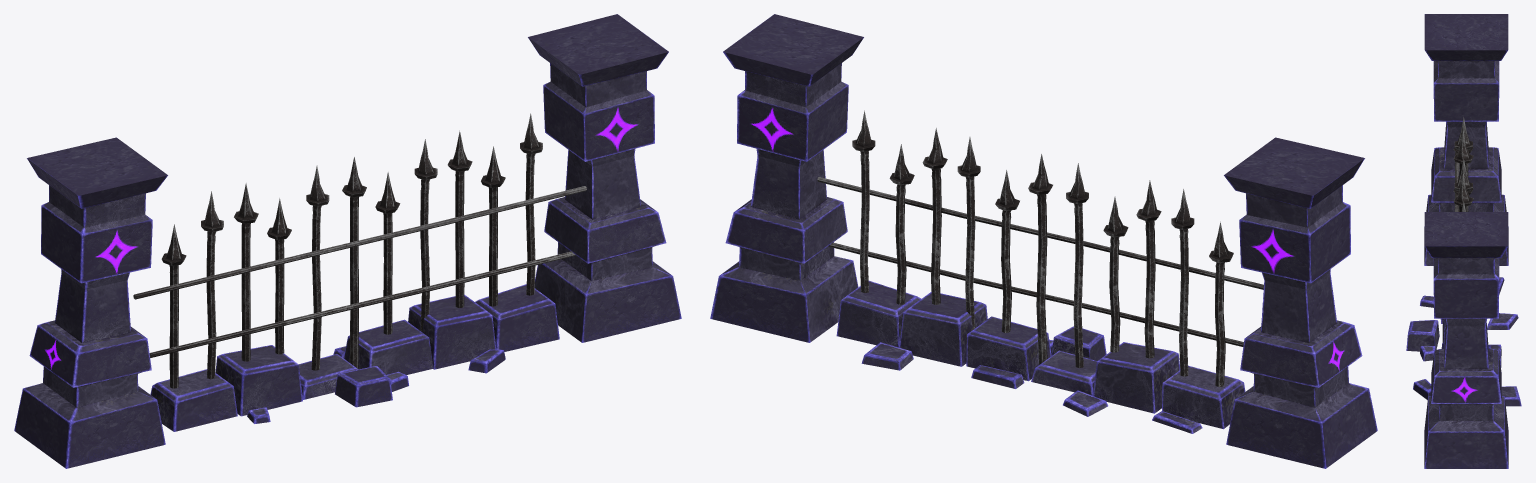
Rendered from Fench1.fbx.
The picture shows the model from 3 angles, left to right: view 1: azimuth 30°, elevation 25°; view 2: azimuth 150°, elevation 25°; view 3: azimuth 270°, elevation 25°; orthographic projection. The views are drawn at different scales.
Visible parts, largest first — view 1: Fench1, FenchP1, FenchP2; view 2: Fench1, FenchP1, FenchP2; view 3: FenchP2, FenchP1, Fench1.
Boxes of the visible parts, x1=… form: Fench1: x1=133, y1=113, x2=586, y2=431; FenchP1: x1=14, y1=137, x2=167, y2=468; FenchP2: x1=528, y1=14, x2=681, y2=342; Fench1: x1=817, y1=110, x2=1263, y2=433; FenchP1: x1=1224, y1=137, x2=1377, y2=468; FenchP2: x1=710, y1=14, x2=863, y2=342; FenchP2: x1=1424, y1=212, x2=1508, y2=468; FenchP1: x1=1424, y1=14, x2=1508, y2=265; Fench1: x1=1406, y1=117, x2=1521, y2=406.
Bounding box in the file's own units: 7.49 × 3.14 × 1.51.
Materials: 1 (1 with a texture image).
